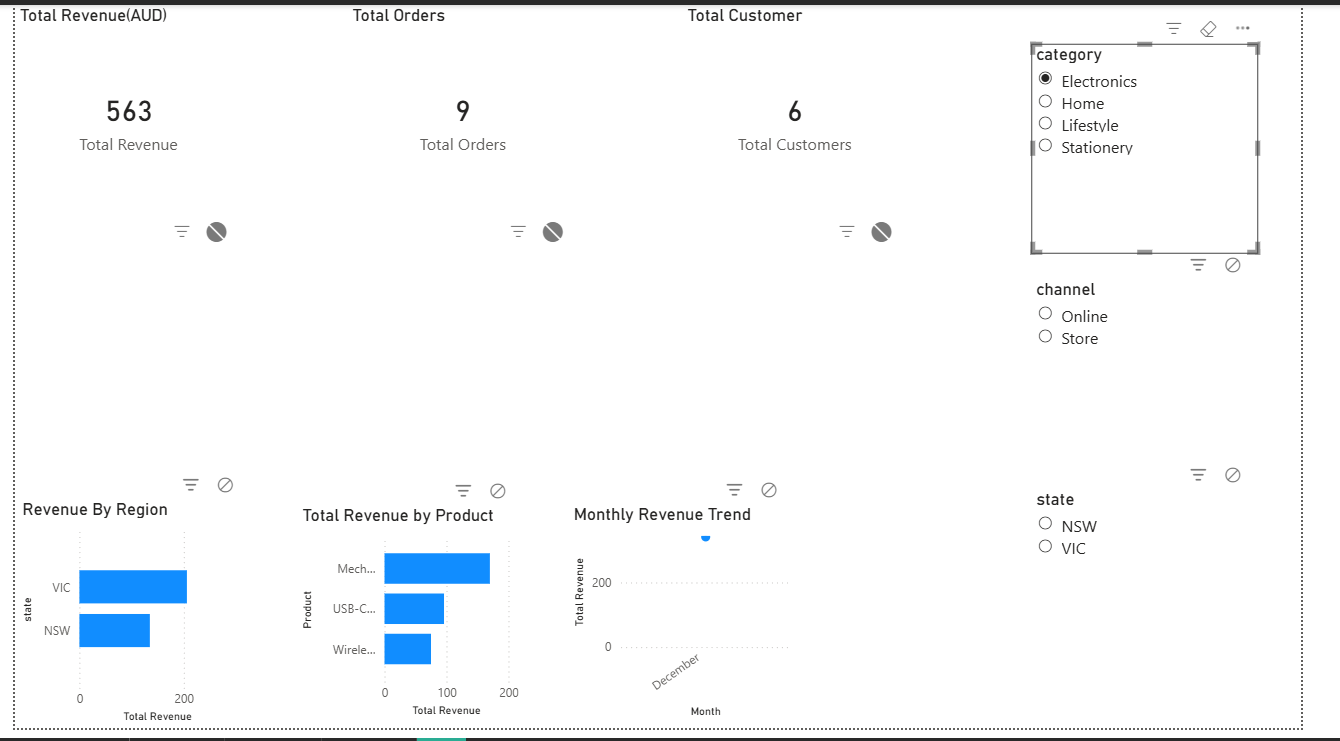

The page's visual inventory and layout, read from the dashboard file:
{"tool":"powerbi","page":{"name":"Page 2","canvas":[1280,720],"ordinal":1},"visuals":[{"type":"card","title":"Total Revenue(AUD)","fields":{"Values":["sales_fact.Total Revenue"]},"box":[0,0,226.4,209],"z":0},{"type":"card","title":"Total Orders","fields":{"Values":["sales_fact.Total Orders"]},"box":[330.3,0,230.1,209],"z":1000},{"type":"card","title":"Total Customer","fields":{"Values":["sales_fact.Total Customers"]},"box":[664.3,0,223.9,209],"z":2000},{"type":"lineChart","title":" Monthly Revenue Trend","fields":{"Category":["sales_fact.Order Date.Variation.Date Hierarchy.Month"],"Y":["sales_fact.Total Revenue"]},"box":[551.1,496.8,225.2,217.7],"z":3000},{"type":"clusteredBarChart","title":"Revenue By Region","fields":{"Category":["sales_fact.state"],"Y":["sales_fact.Total Revenue"]},"box":[2.5,491.8,232.6,227.6],"z":4000},{"type":"clusteredBarChart","fields":{"Category":["sales_fact.Product"],"Y":["sales_fact.Total Revenue"]},"box":[280.5,498,225.2,215.2],"z":5000},{"type":"listSlicer","fields":{"Values":["sales_fact.category"]},"box":[1011.3,38.6,226.4,209],"z":5001},{"type":"listSlicer","fields":{"Values":["sales_fact.channel"]},"box":[1011.3,272.4,226.4,209],"z":5002},{"type":"listSlicer","fields":{"Values":["sales_fact.state"]},"box":[1011.3,481.4,226.4,209],"z":5003}]}

Visuals, with their boxes on the page's 1280x720 design canvas (x1, y1, x2, y2). These are canvas units, not pixel positions in the 1340x741 screenshot, which may show the page scaled, cropped or inside an application window:
"Total Revenue(AUD)" card: (left=0, top=0, right=226, bottom=209)
"Total Orders" card: (left=330, top=0, right=560, bottom=209)
"Total Customer" card: (left=664, top=0, right=888, bottom=209)
" Monthly Revenue Trend" lineChart: (left=551, top=497, right=776, bottom=714)
"Revenue By Region" clusteredBarChart: (left=2, top=492, right=235, bottom=719)
clusteredBarChart - sales_fact.Product x sales_fact.Total Revenue: (left=280, top=498, right=506, bottom=713)
listSlicer - sales_fact.category: (left=1011, top=39, right=1238, bottom=248)
listSlicer - sales_fact.channel: (left=1011, top=272, right=1238, bottom=481)
listSlicer - sales_fact.state: (left=1011, top=481, right=1238, bottom=690)
